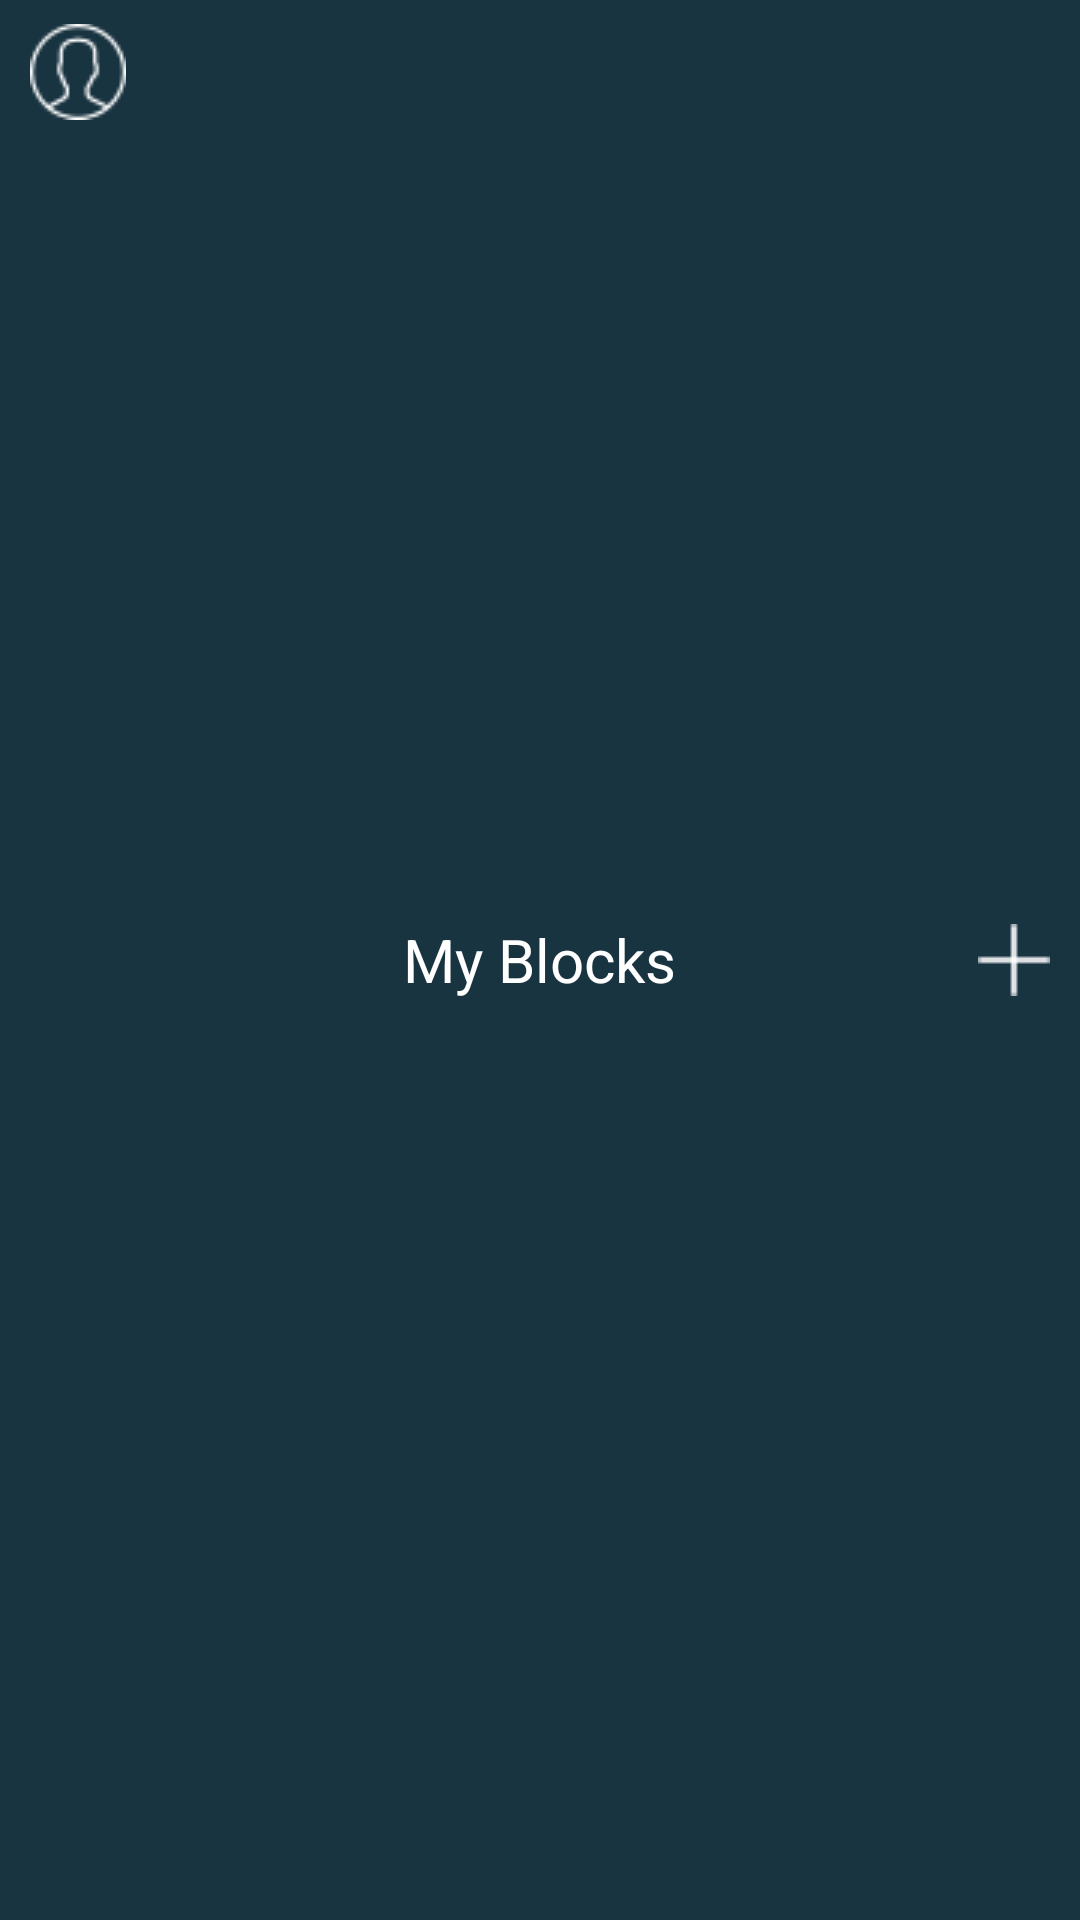

Where icons sit on this 1080px x 1920px app screen, as (x1, y1, x2, y2):
add: (978, 924, 1050, 996)
user: (30, 24, 126, 120)
